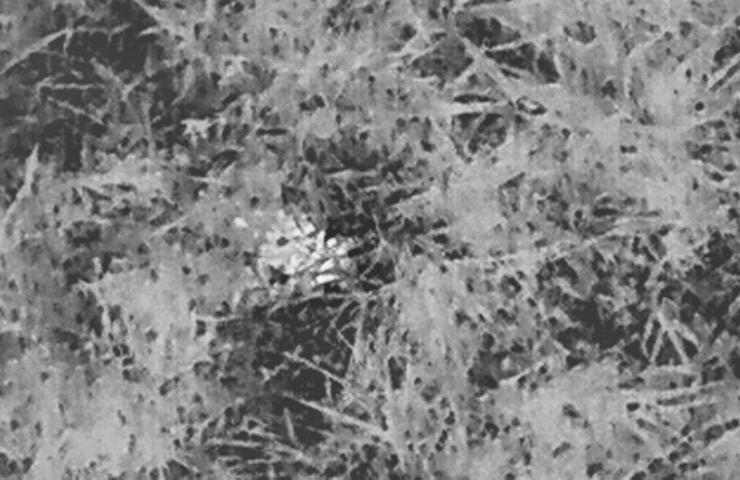landmines: (234, 199, 363, 296)
